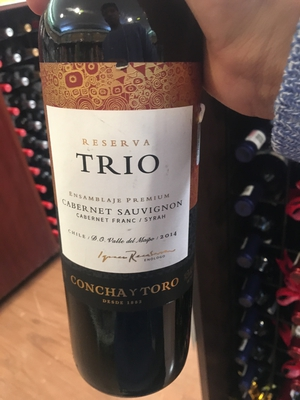trio cabernet sauvignon: (40, 8, 212, 387)
